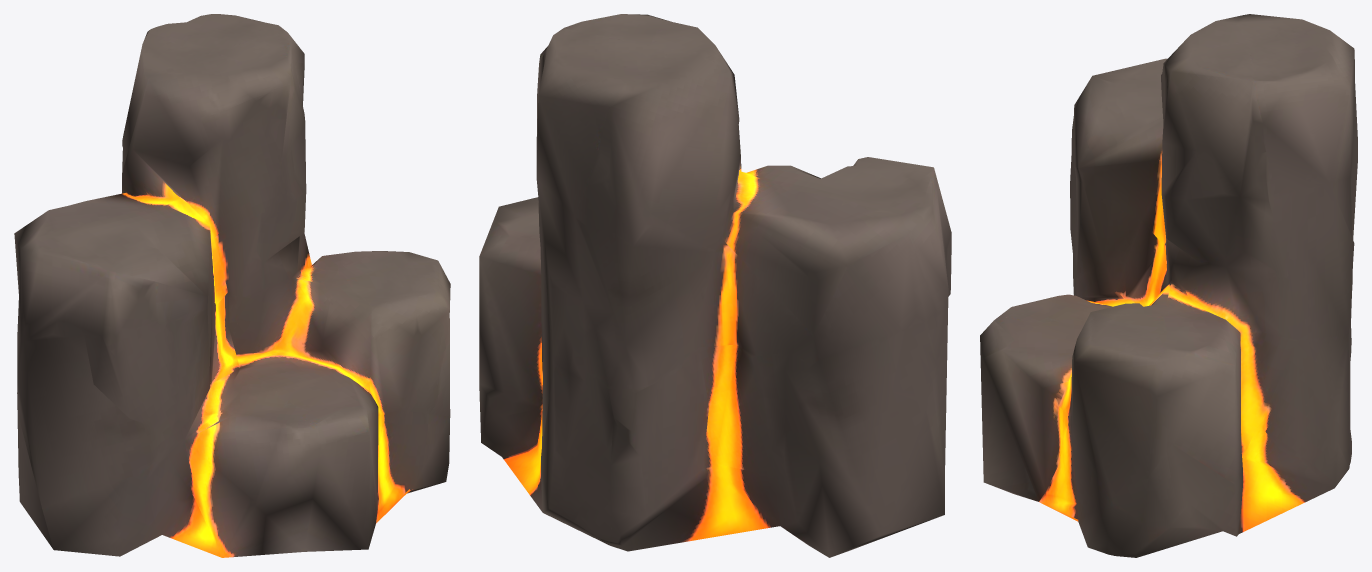
Rendered from fg_columns-nn6Swb6p.glb.
3 renders of one model, left to right at view 1: azimuth 30°, elevation 25°; view 2: azimuth 150°, elevation 25°; view 3: azimuth 270°, elevation 25°, orthographic. The views are drawn at different scales.
Parts seen in each view (by area): view 1: tripo_node_ebef5b36-fd0e-47b3-9f52-d44c3ae5a71b; view 2: tripo_node_ebef5b36-fd0e-47b3-9f52-d44c3ae5a71b; view 3: tripo_node_ebef5b36-fd0e-47b3-9f52-d44c3ae5a71b.
Boxes of the visible parts, x1=… form: tripo_node_ebef5b36-fd0e-47b3-9f52-d44c3ae5a71b: x1=14, y1=14, x2=450, y2=557; tripo_node_ebef5b36-fd0e-47b3-9f52-d44c3ae5a71b: x1=479, y1=14, x2=951, y2=557; tripo_node_ebef5b36-fd0e-47b3-9f52-d44c3ae5a71b: x1=980, y1=14, x2=1357, y2=557.
Size of the model in its own units: 2.2 by 2.08 by 1.65.
Materials: 1 (1 with a texture image).
